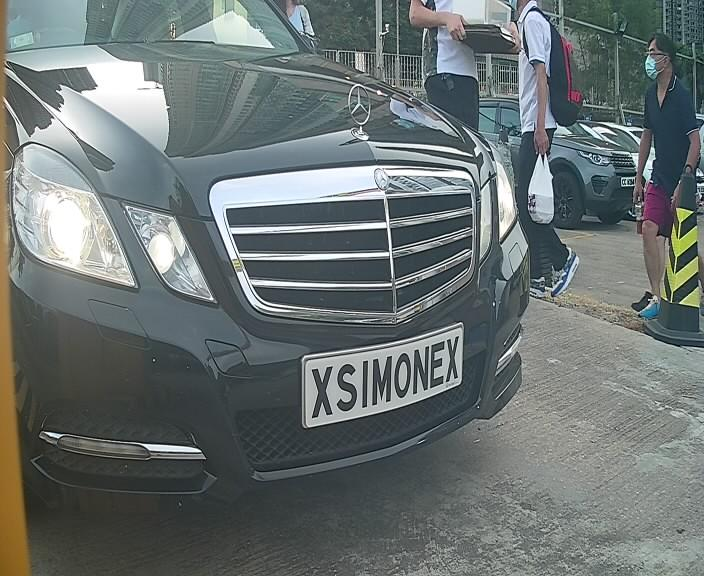Car: (4, 3, 560, 525)
License Plate: (288, 308, 484, 435)
